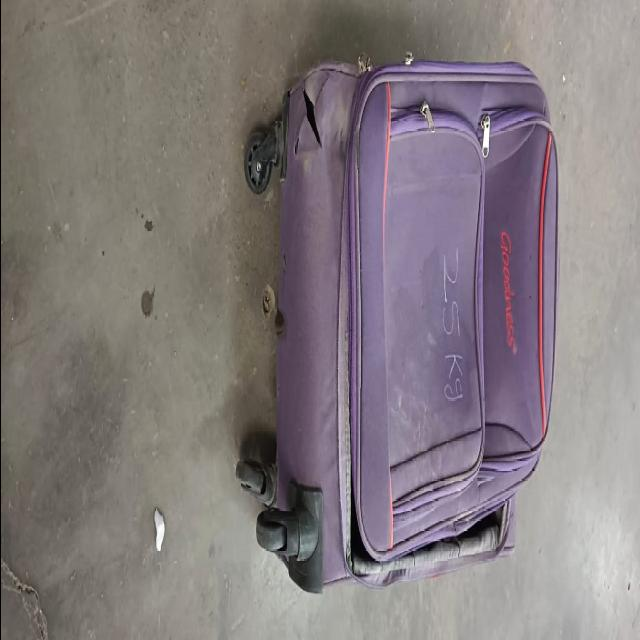Damage-bag: (338, 122, 515, 589), (294, 69, 329, 156)
